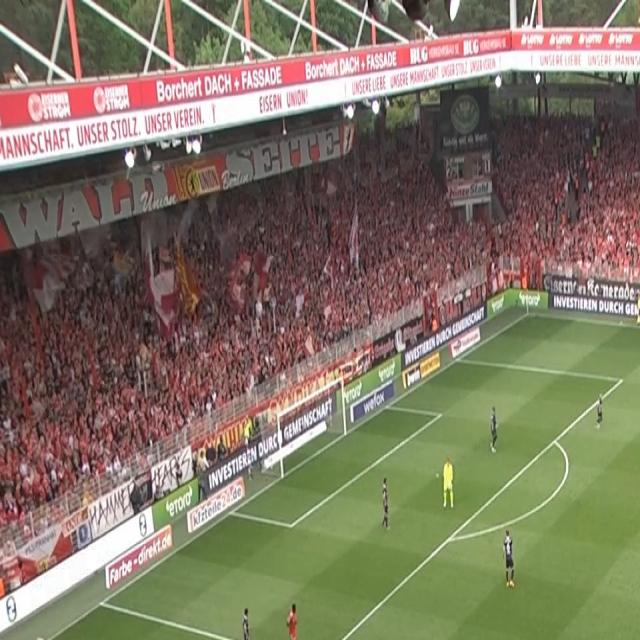ball: (448, 479, 453, 491)
